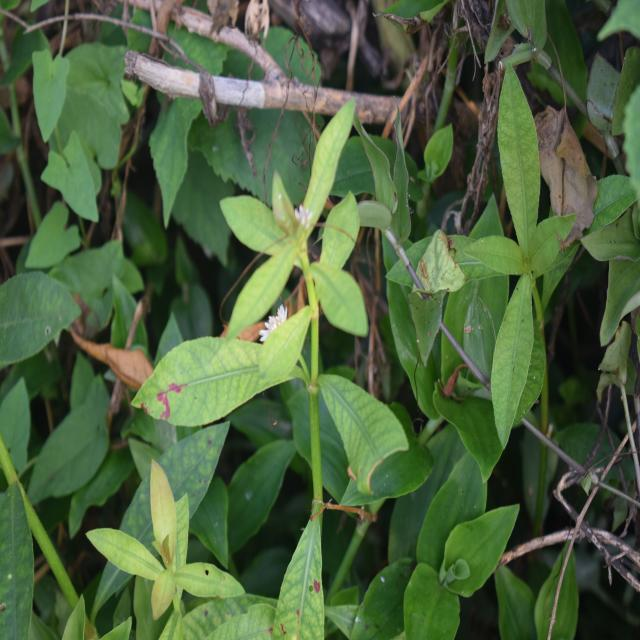Alligatorweed: (167, 142, 411, 514), (449, 83, 596, 421)
